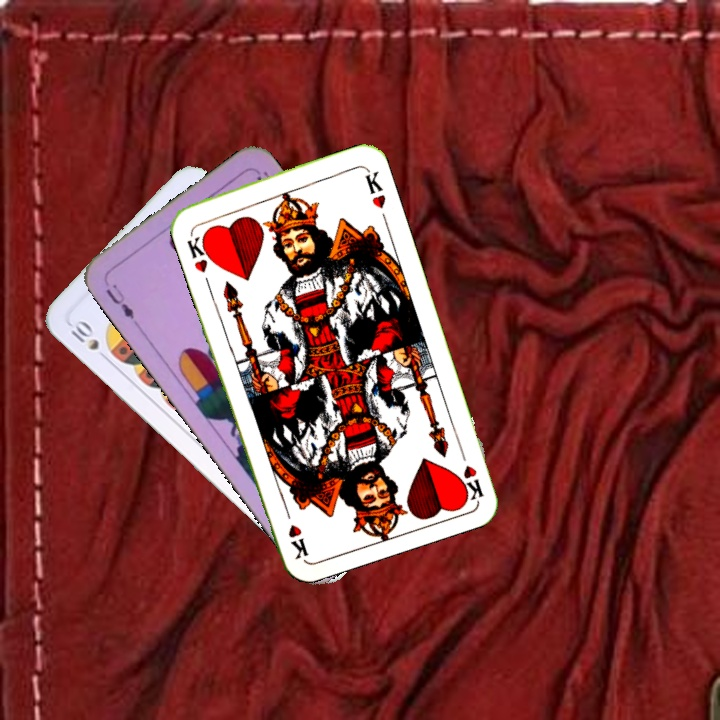EU: (102, 279, 137, 322)
HK: (454, 442, 486, 503), (183, 226, 216, 276)
S10: (65, 316, 112, 365)
